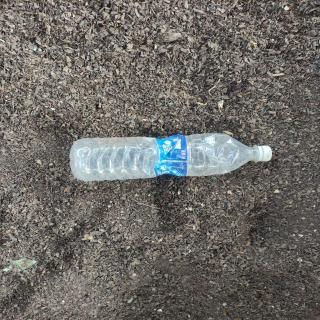Plastic-bottle: (68, 131, 280, 188)
